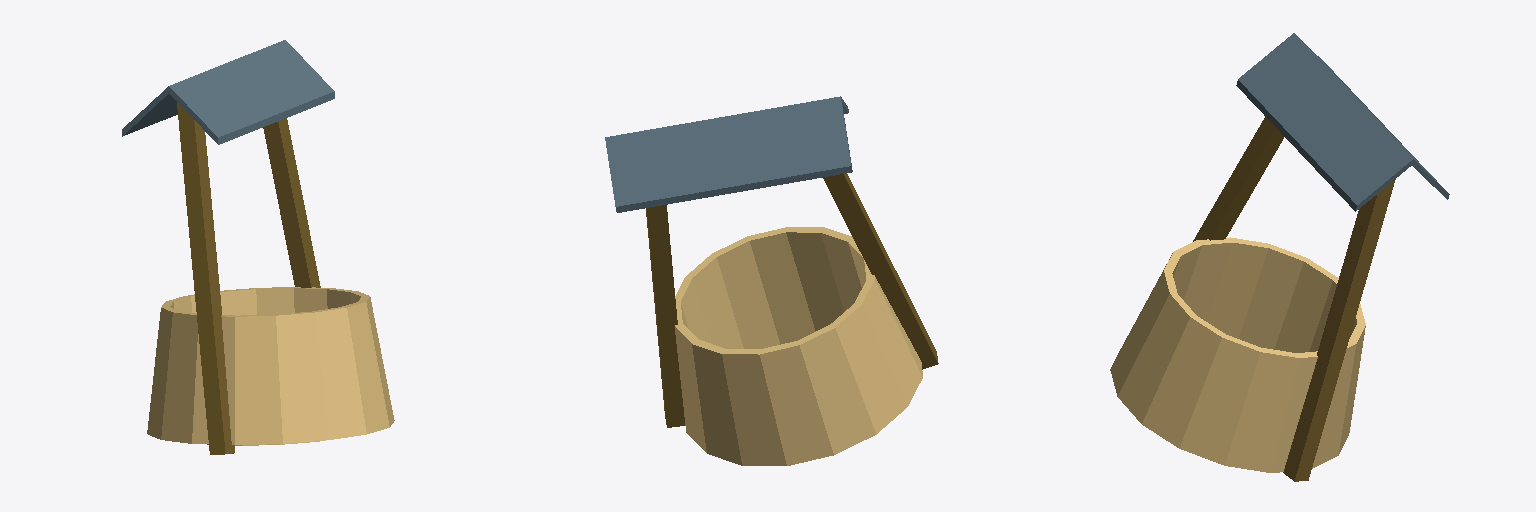
Rendered from pozo.obj.
3 renders of one model, left to right at view 1: azimuth 30°, elevation 25°; view 2: azimuth 150°, elevation 25°; view 3: azimuth 270°, elevation 25°, orthographic.
Visible parts, largest first — view 1: pCylinder70, pCube24, pCube23, pCube22; view 2: pCylinder70, pCube24, pCube23, pCube22; view 3: pCylinder70, pCube24, pCube22, pCube23.
Boxes of the visible parts, x1=… form: pCylinder70: x1=147, y1=287, x2=394, y2=445; pCube24: x1=122, y1=40, x2=334, y2=144; pCube23: x1=177, y1=102, x2=234, y2=454; pCube22: x1=263, y1=118, x2=320, y2=287; pCylinder70: x1=675, y1=227, x2=922, y2=465; pCube24: x1=605, y1=96, x2=852, y2=212; pCube23: x1=823, y1=173, x2=938, y2=369; pCube22: x1=646, y1=205, x2=684, y2=427; pCylinder70: x1=1110, y1=237, x2=1365, y2=472; pCube24: x1=1236, y1=33, x2=1449, y2=211; pCube22: x1=1283, y1=179, x2=1395, y2=481; pCube23: x1=1193, y1=117, x2=1283, y2=241.
Size of the model in its own units: 2.59 by 3.89 by 3.24.